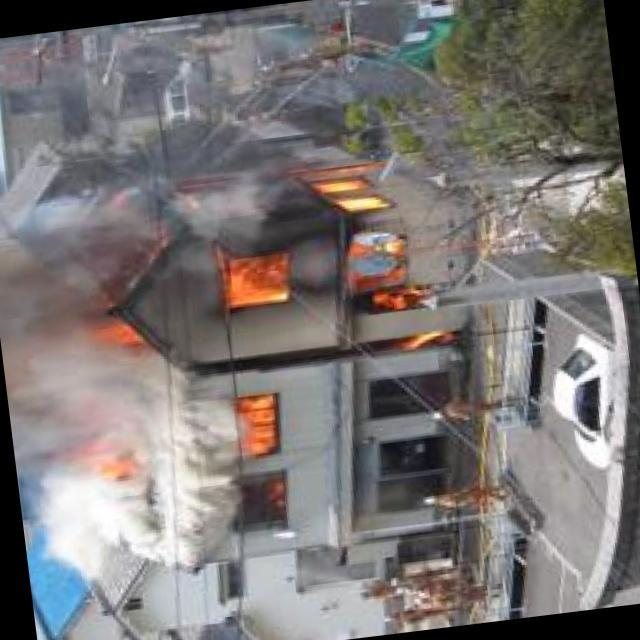Fire: (55, 135, 464, 396), (239, 393, 287, 461)
